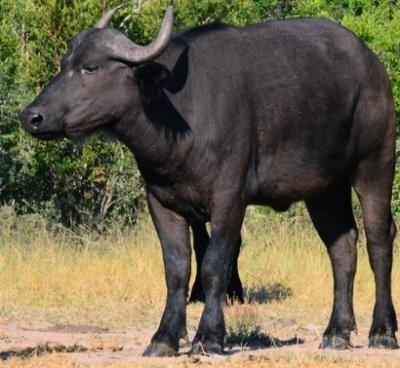buffalo: (19, 7, 396, 354)
